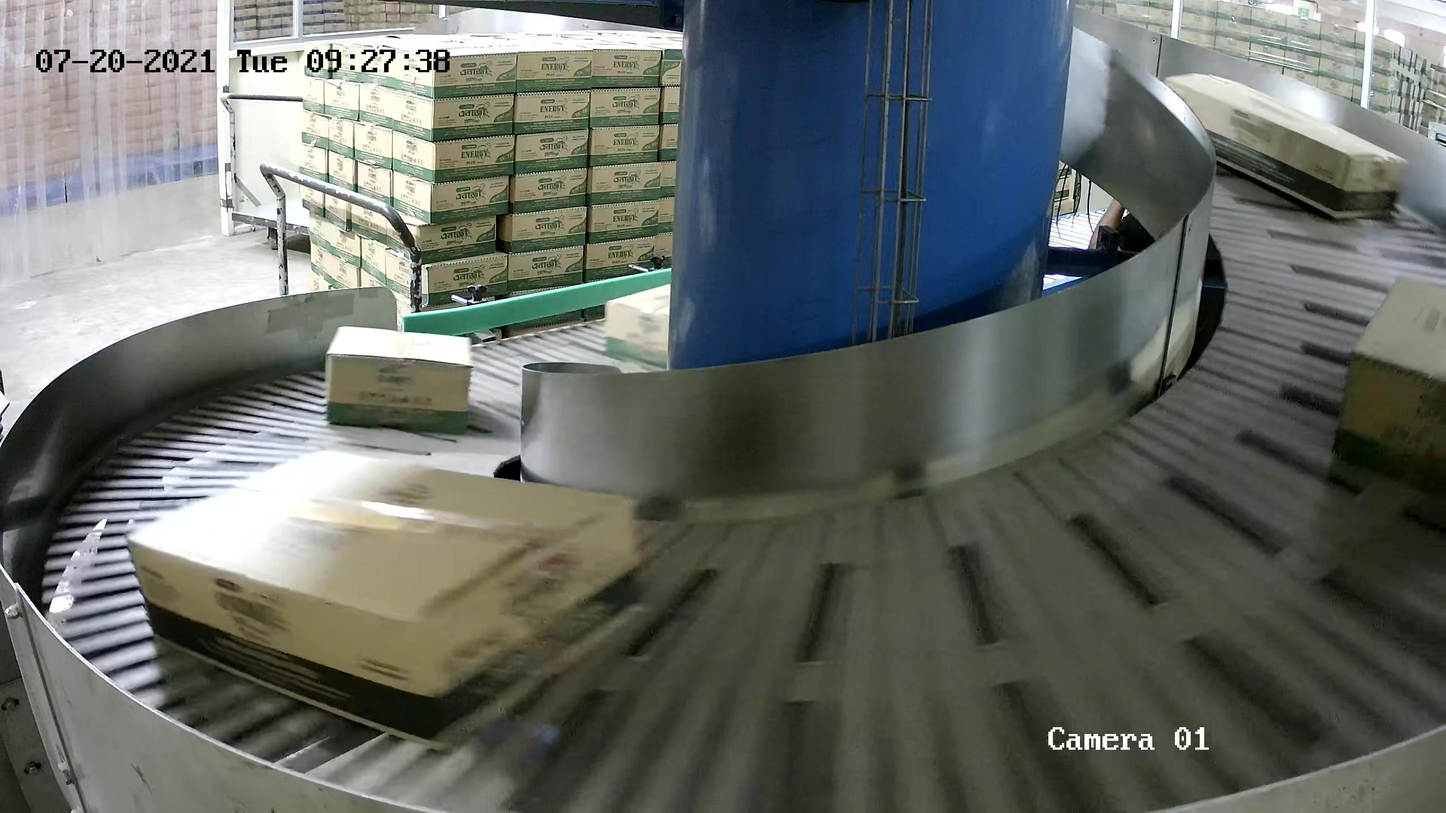Box: (122, 442, 645, 755), (1162, 68, 1409, 222), (1331, 272, 1446, 482), (323, 324, 475, 436), (603, 282, 670, 369)
